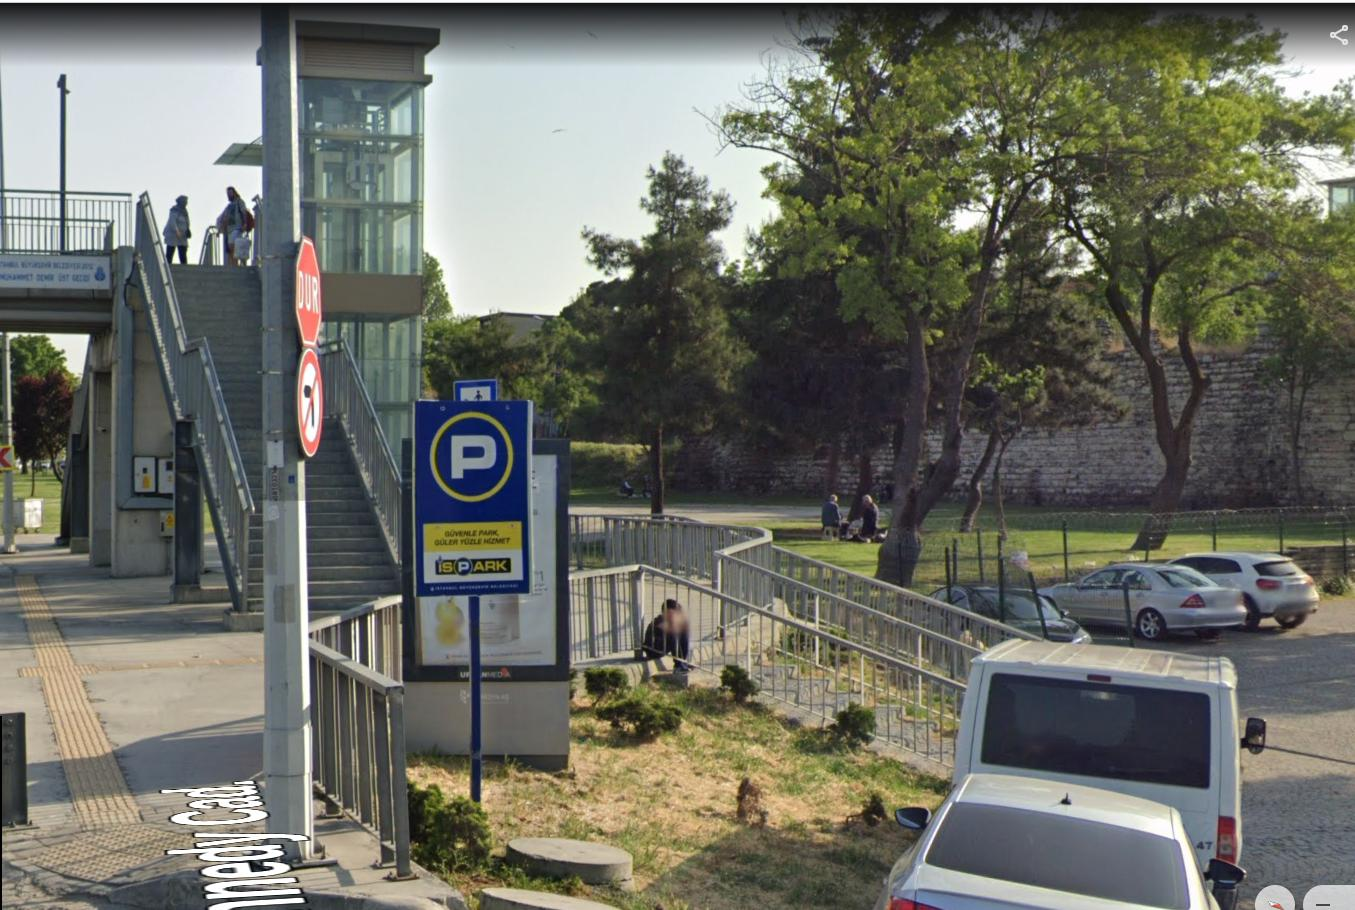leftturnsareforbidden: (296, 350, 328, 456)
park: (421, 404, 525, 507)
stop: (296, 238, 323, 342)
